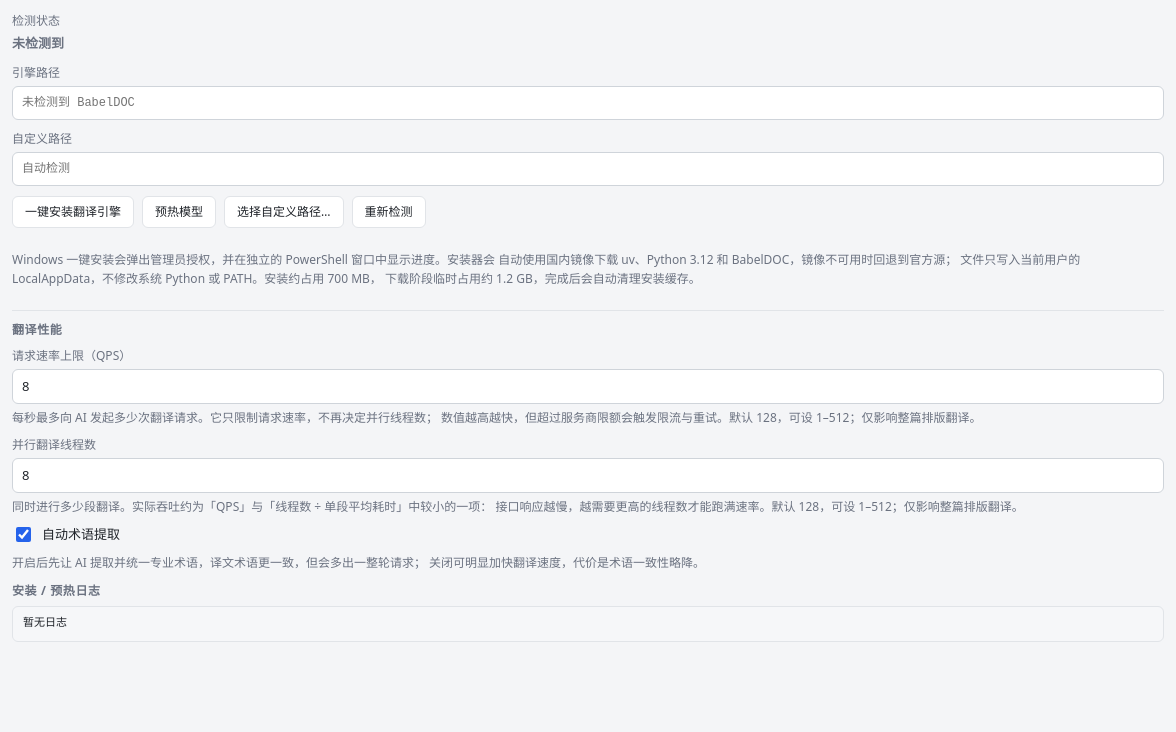
EngineSettingsTab performance settings › 夹紧并保存请求速率上限
Replace the text in the number field labelled "请求速率上限（QPS）" with "999" at (588, 387), box [12,369,1164,404]
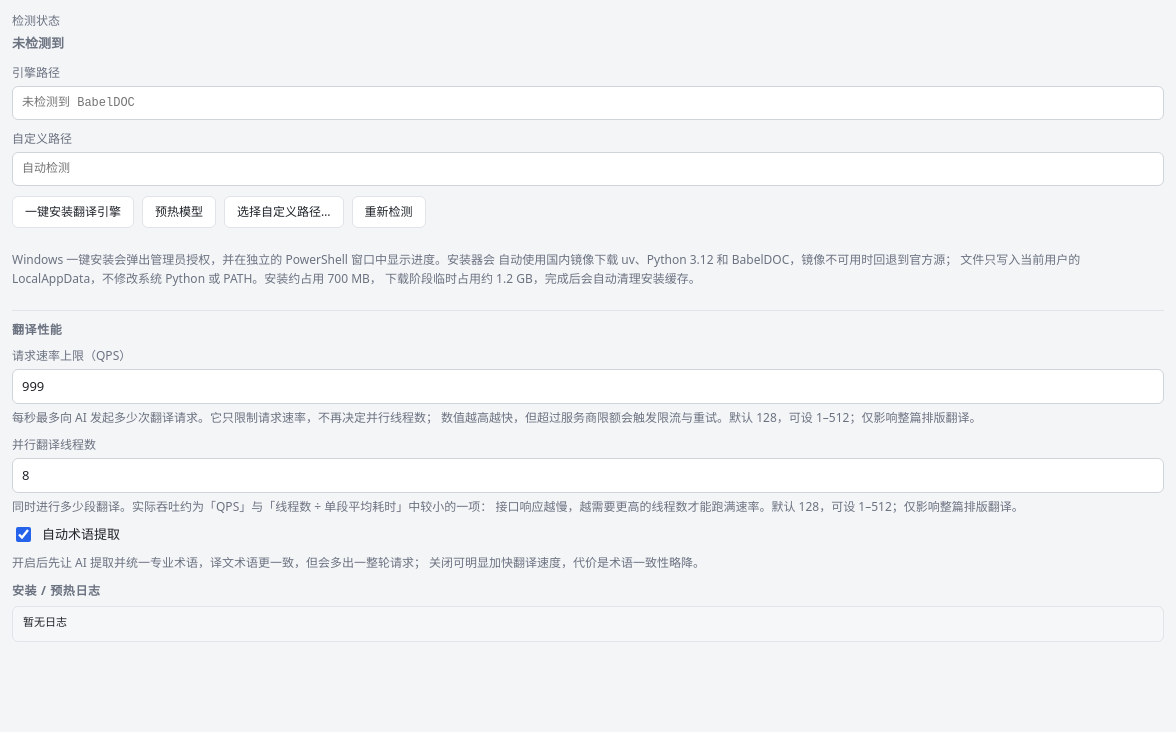
Leave the number field labelled "请求速率上限（QPS）", box [12,369,1164,404]
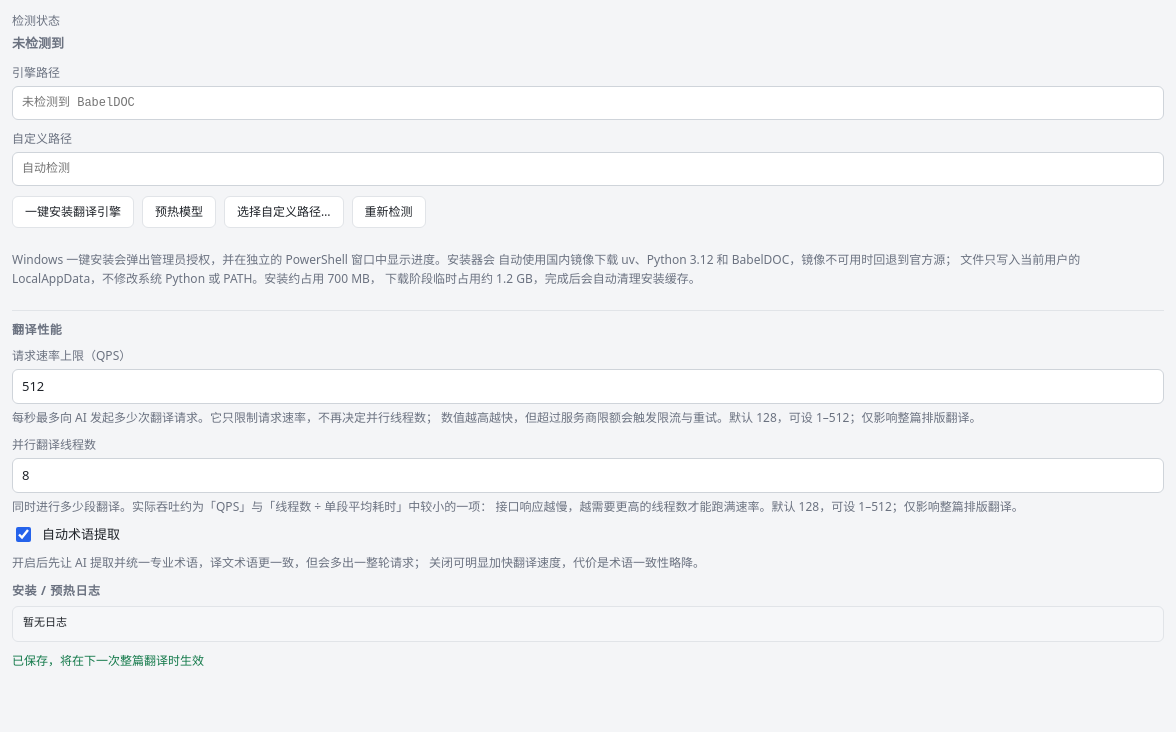
Expected: the number field labelled "请求速率上限（QPS）" holds "512", [12,369,1164,404]
